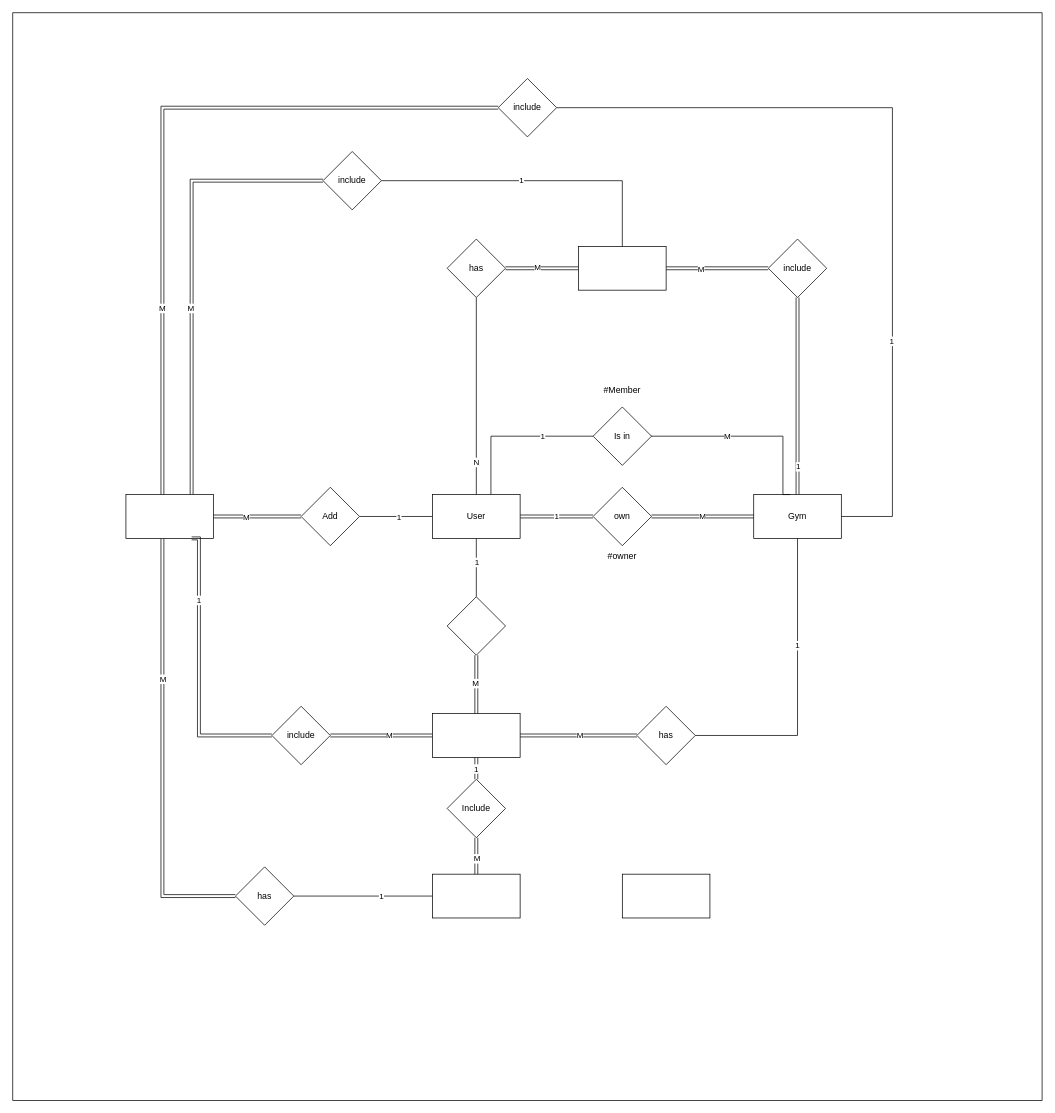
Image size: 1055x1113. Some labels were removed from this diagram. The shapes that lost their labels are listed below. From the top down, each one's box as (x1, y1, x2, y2) in pixels, then its label:
(578, 246, 666, 290): Plan
(125, 494, 214, 538): Subscription
(446, 596, 506, 655): Make
(432, 713, 520, 757): Payment
(432, 873, 520, 918): Payment_Method
(622, 873, 710, 918): Contact_Message
